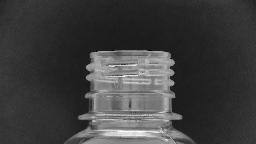No Cap: (74, 46, 184, 124)
